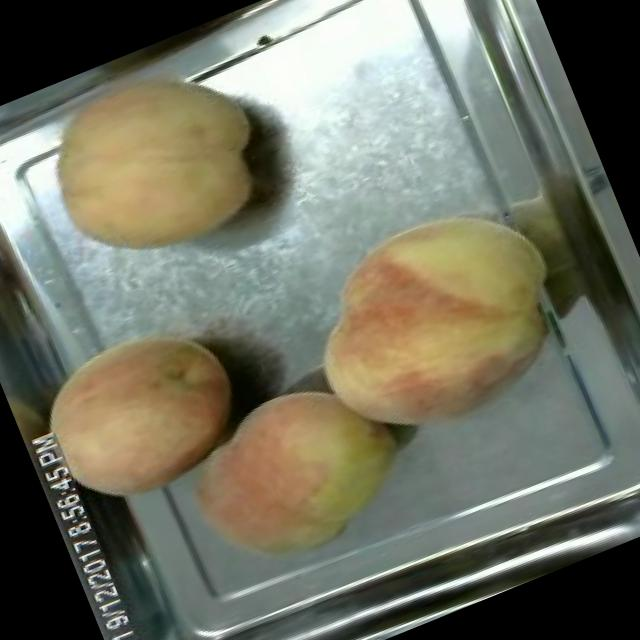Fruit: (274, 172, 594, 468), (7, 16, 297, 296), (157, 348, 432, 594), (2, 294, 269, 534)
